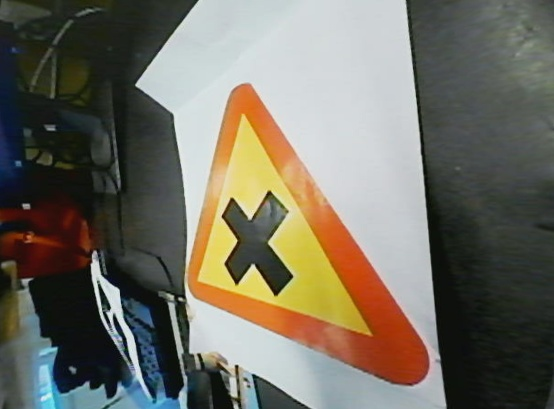junction: (159, 88, 441, 387)
